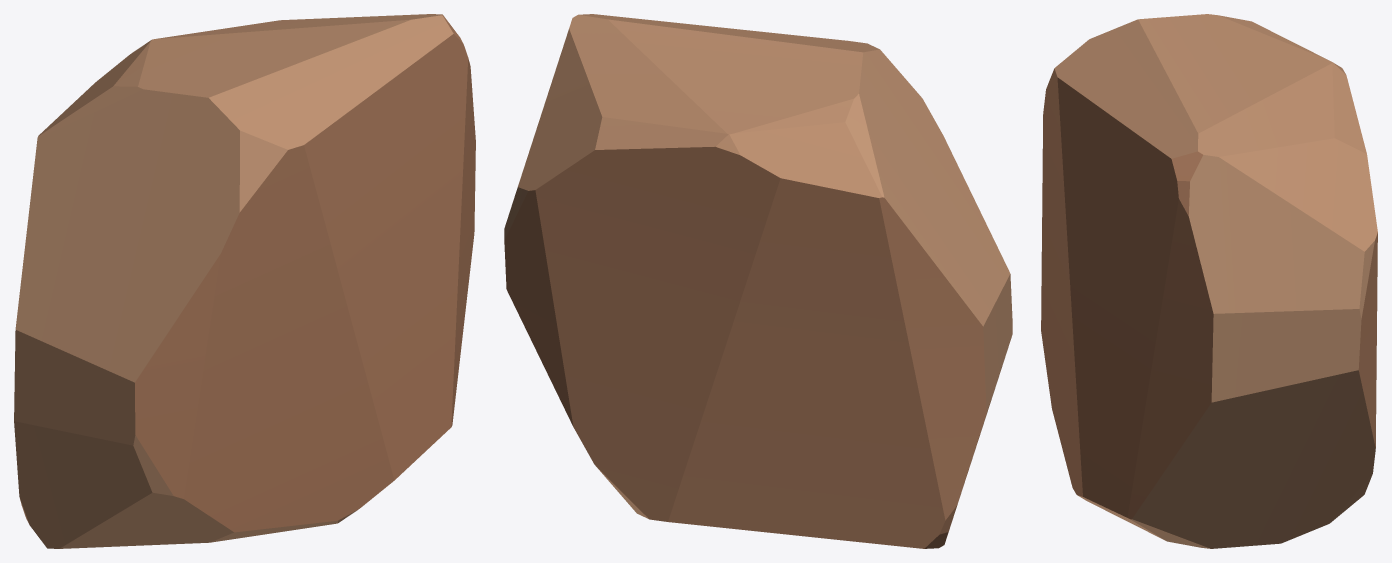
Rendered from Rock_6.fbx.
The picture shows the model from 3 angles, left to right: view 1: azimuth 30°, elevation 25°; view 2: azimuth 150°, elevation 25°; view 3: azimuth 270°, elevation 25°; orthographic projection. The views are drawn at different scales.
Parts seen in each view (by area): view 1: Rock.006; view 2: Rock.006; view 3: Rock.006.
Boxes of the visible parts, bbox=[...] form: Rock.006: bbox=[14, 14, 475, 548]; Rock.006: bbox=[504, 14, 1012, 548]; Rock.006: bbox=[1041, 14, 1377, 548].
Bounding box in the file's own units: 1605 × 1006 × 1497.
